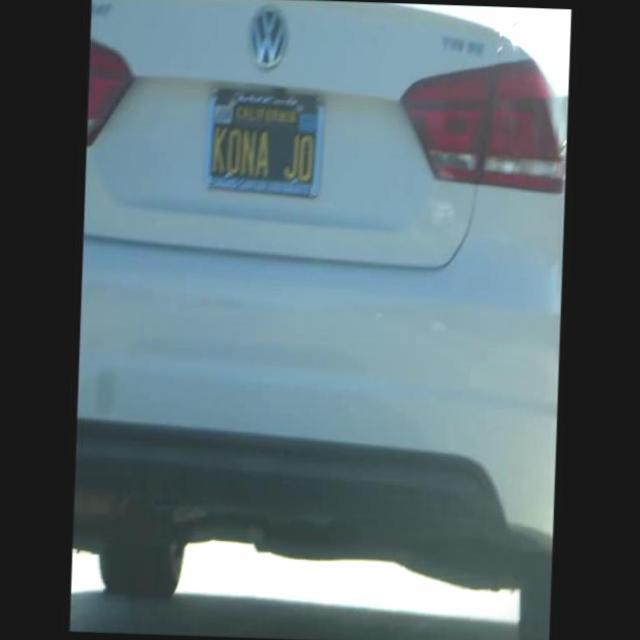LicensePlate: (200, 75, 331, 211)
